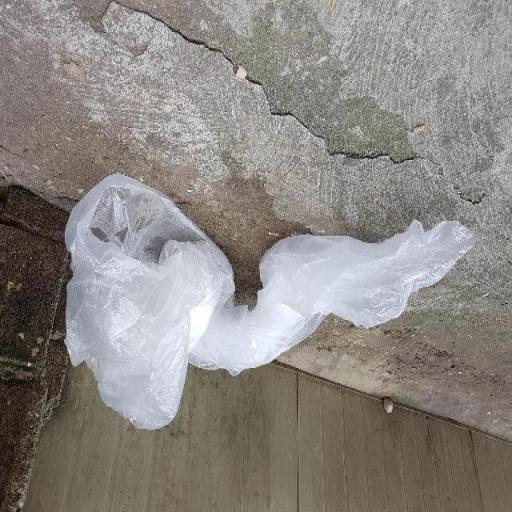plastic-bag: (62, 174, 476, 432)
